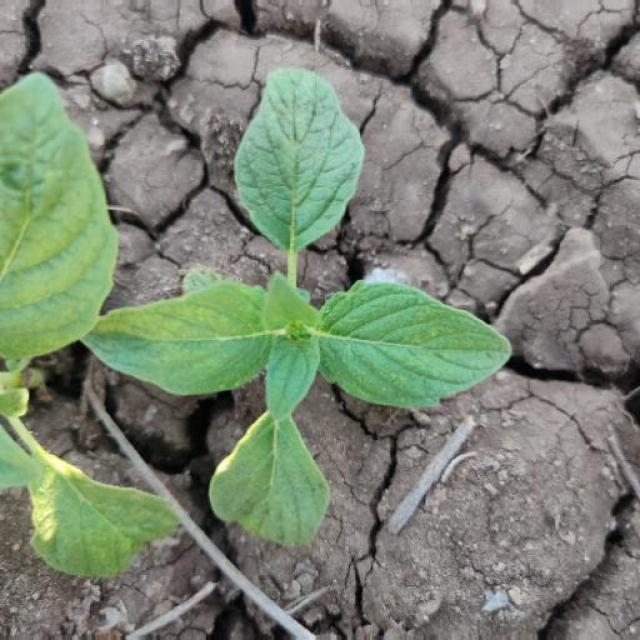crop: (65, 58, 516, 526)
